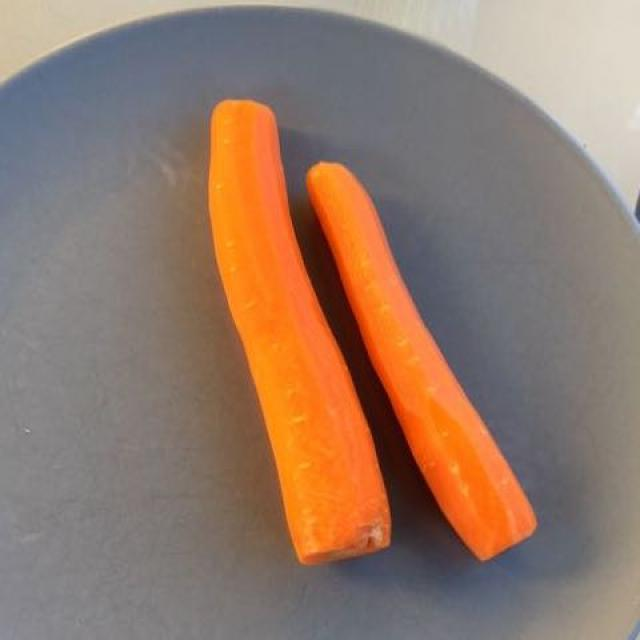carrot-raw: (310, 161, 533, 558), (207, 119, 387, 557)
